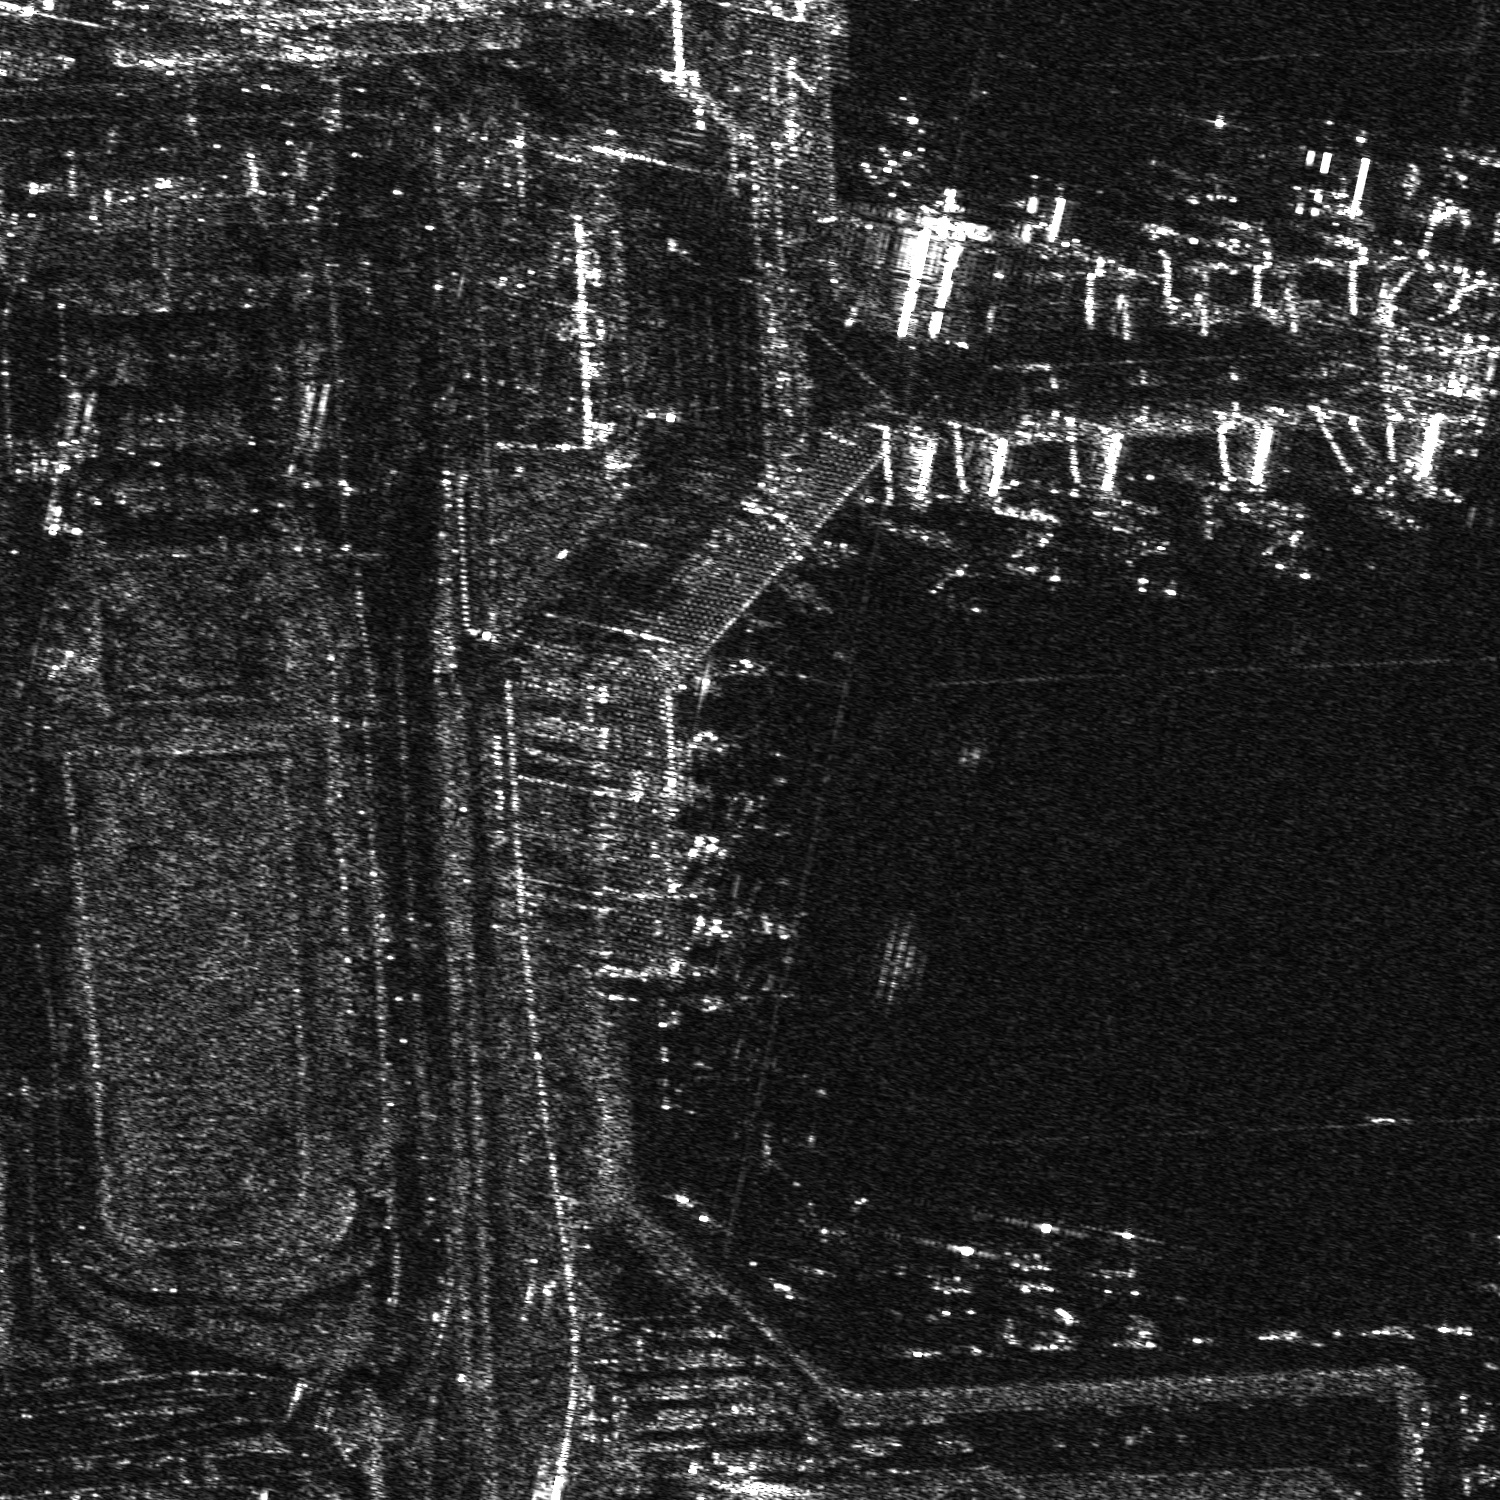A220: (988, 1214, 1063, 1304), (1007, 512, 1081, 584)
Boeing737: (900, 1234, 982, 1306), (929, 541, 995, 618)
Boeing787: (1115, 505, 1179, 595)
other: (1080, 1225, 1151, 1302), (1260, 507, 1331, 581)
